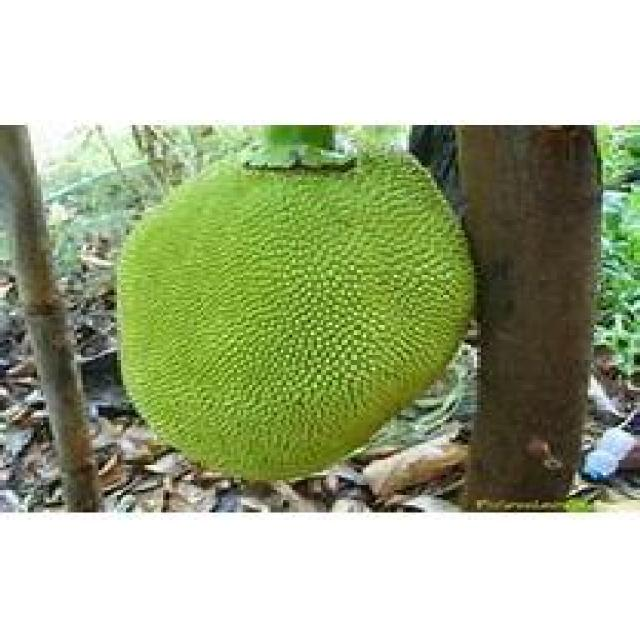Fruit: (96, 130, 502, 502)
